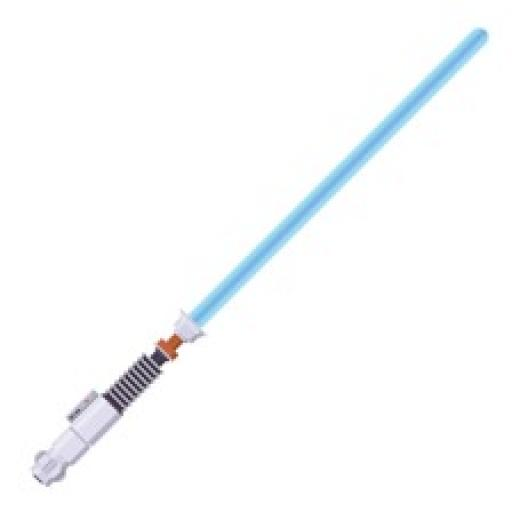lightsaber: (30, 28, 486, 484)
